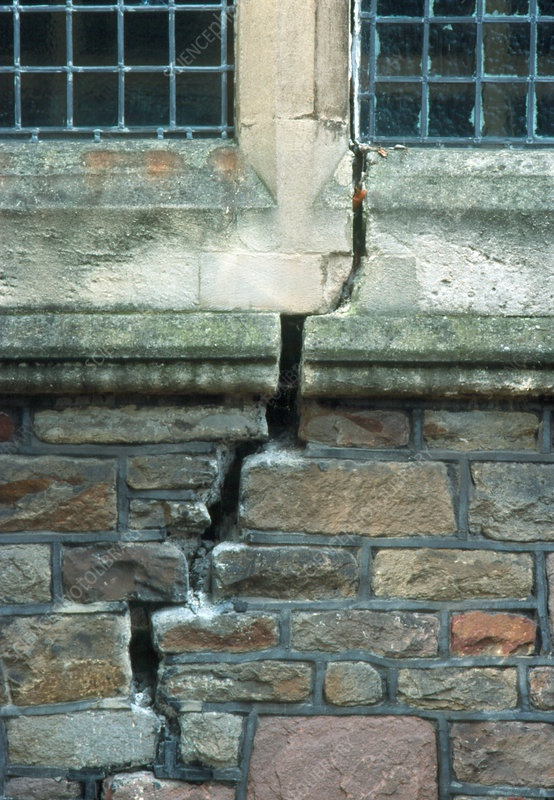crack: (97, 614, 227, 790), (174, 480, 281, 618), (239, 359, 329, 464), (295, 241, 386, 328), (332, 137, 392, 228)
